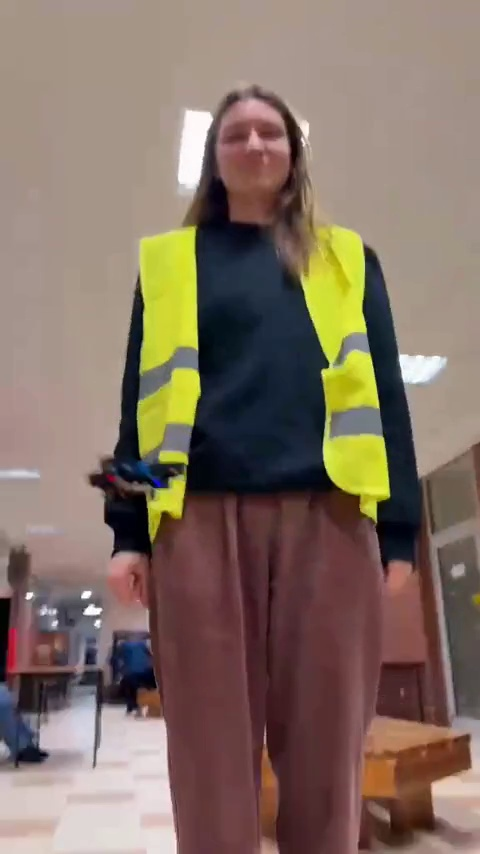drone: (77, 448, 188, 500)
vest: (101, 88, 412, 854)
